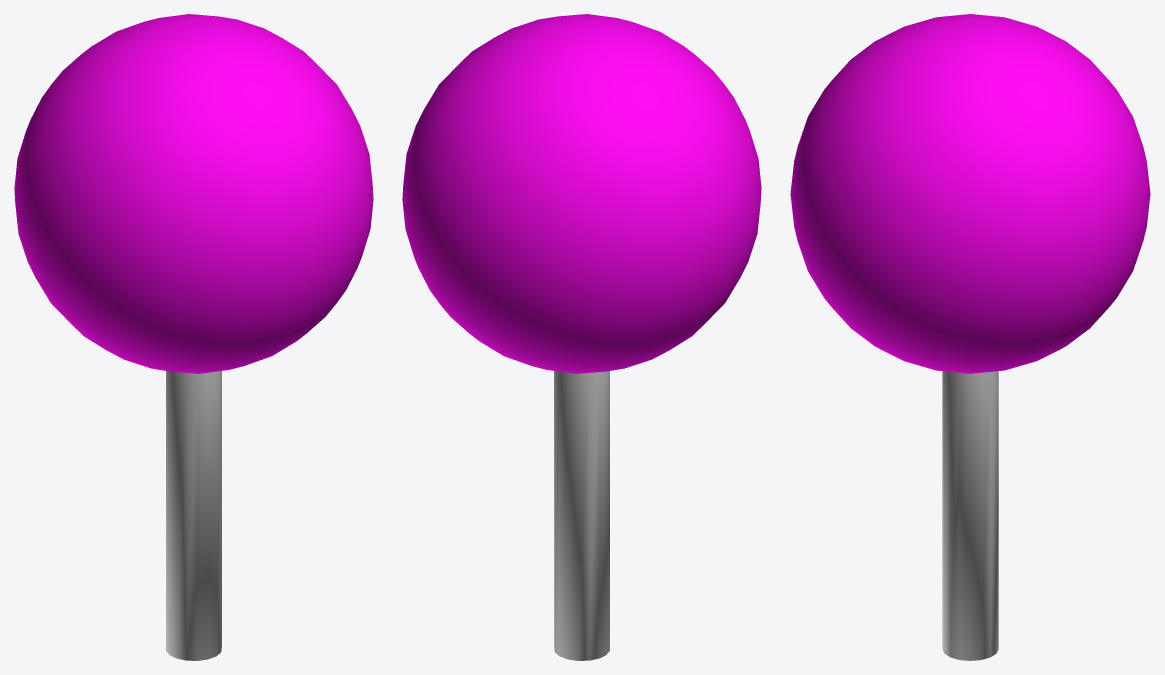
The model's file is purple.glb.
The picture shows the model from 3 angles, left to right: view 1: azimuth 30°, elevation 25°; view 2: azimuth 150°, elevation 25°; view 3: azimuth 270°, elevation 25°; orthographic projection.
Parts seen in each view (by area): view 1: Purple; view 2: Purple; view 3: Purple.
Part boxes in pixels (bbox=[...]): Purple: bbox=[14, 14, 373, 660]; Purple: bbox=[402, 14, 761, 660]; Purple: bbox=[790, 14, 1150, 660].
Bounding box in the file's own units: 0.3764 × 0.7133 × 0.3764.
